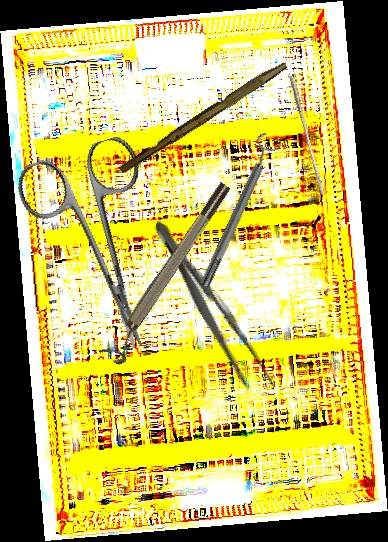Dressing Forceps: (142, 213, 281, 401)
Fixation Ring: (97, 179, 242, 368), (191, 131, 285, 291)
Iris Scissors: (10, 132, 193, 368)
Pusher: (284, 75, 329, 196)
Scalpel Handle: (117, 56, 289, 178)
